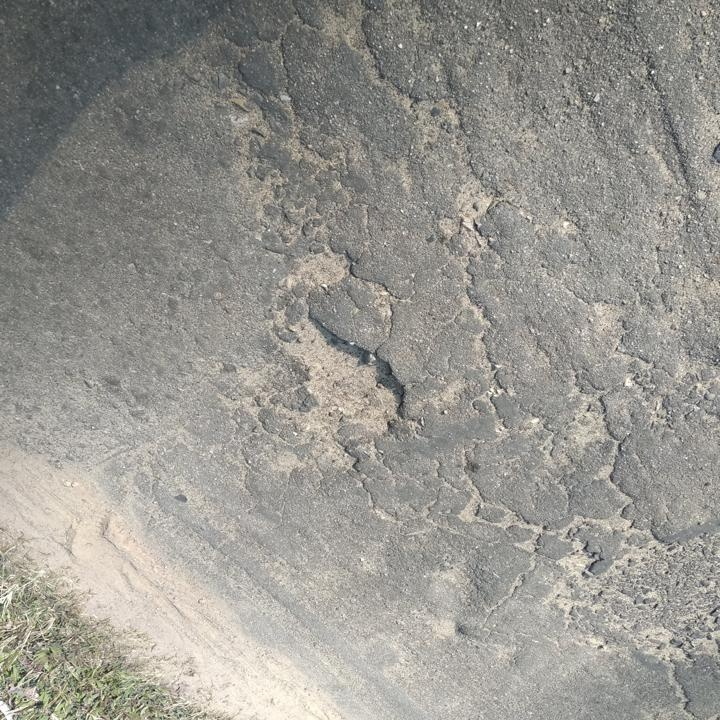pothole: (277, 315, 413, 438), (287, 249, 356, 295)
